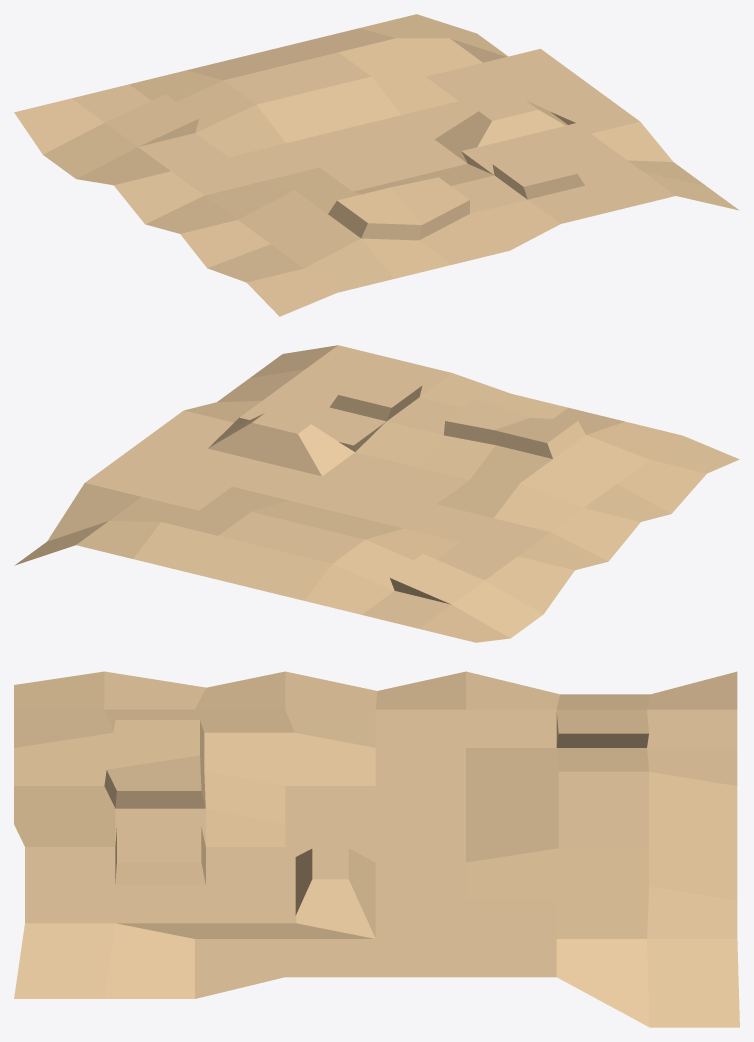
Rendered from Land.fbx.
3 views of the same model, one above another, from view 1: azimuth 30°, elevation 25°; view 2: azimuth 150°, elevation 25°; view 3: azimuth 270°, elevation 25° (orthographic). The views are drawn at different scales.
Visible parts, largest first — view 1: Land; view 2: Land; view 3: Land.
Boxes of the visible parts, x1,y1,x2,y2 form: Land: (14,14,739,316); Land: (14,345,739,642); Land: (14,671,739,1027).
Size of the model in its own units: 2221 by 283 by 2196.
